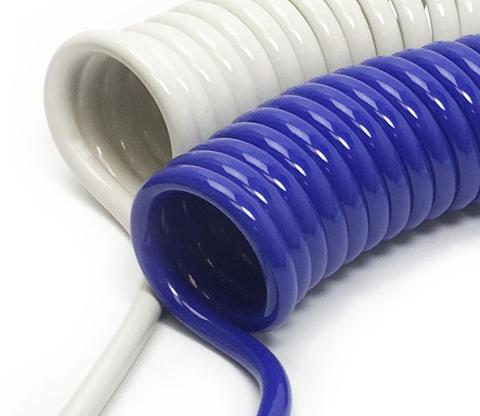Nonrec_Tangler: (52, 1, 455, 387)
